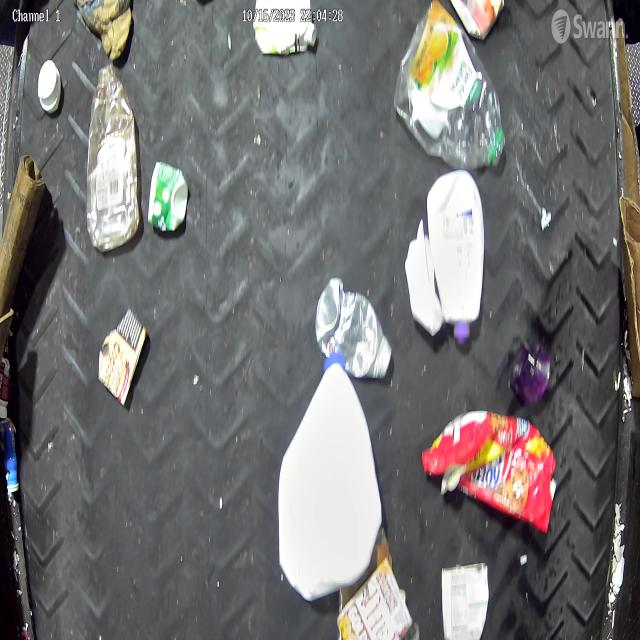can: (332, 557, 421, 640), (436, 548, 495, 640), (144, 149, 184, 246)
milk_jug: (268, 350, 384, 603)
plastic_bottle: (392, 0, 508, 171), (85, 64, 141, 253)
